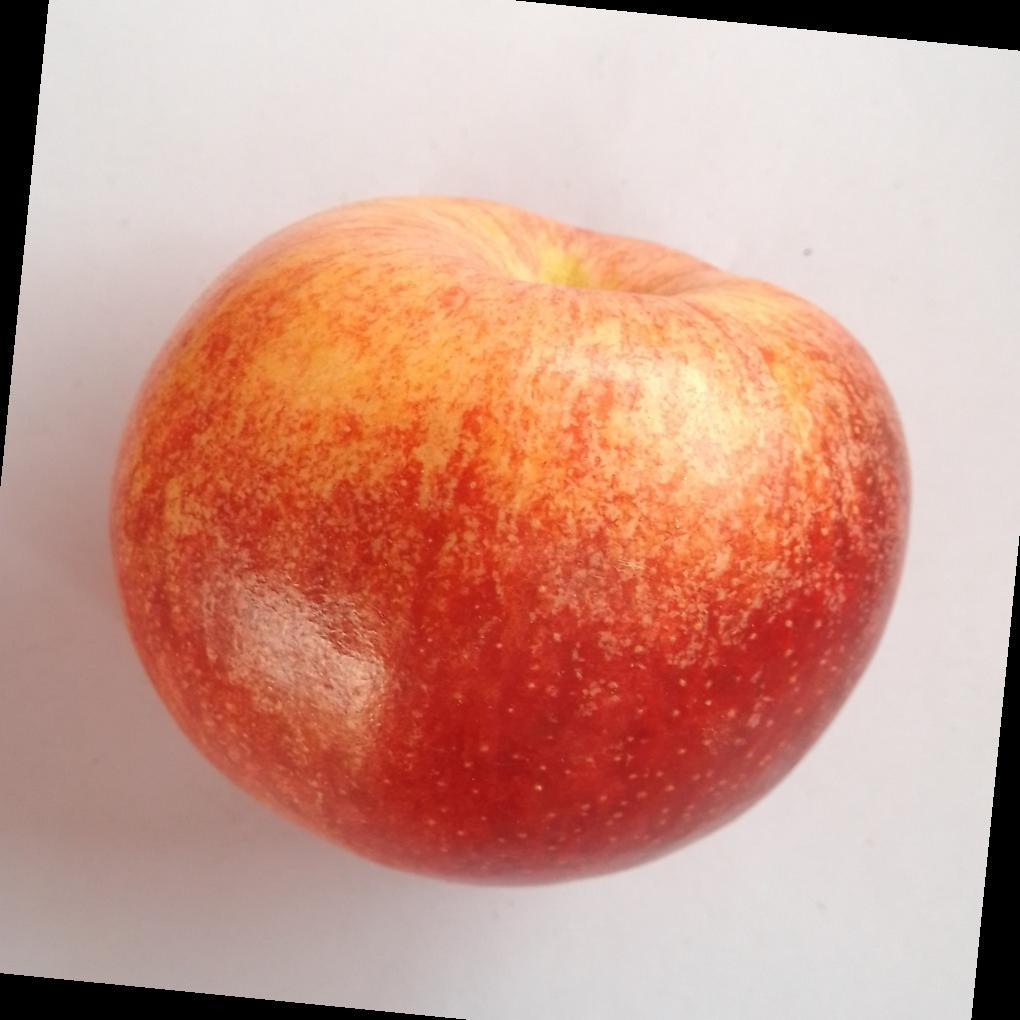FreshGuava: (107, 198, 913, 893)
